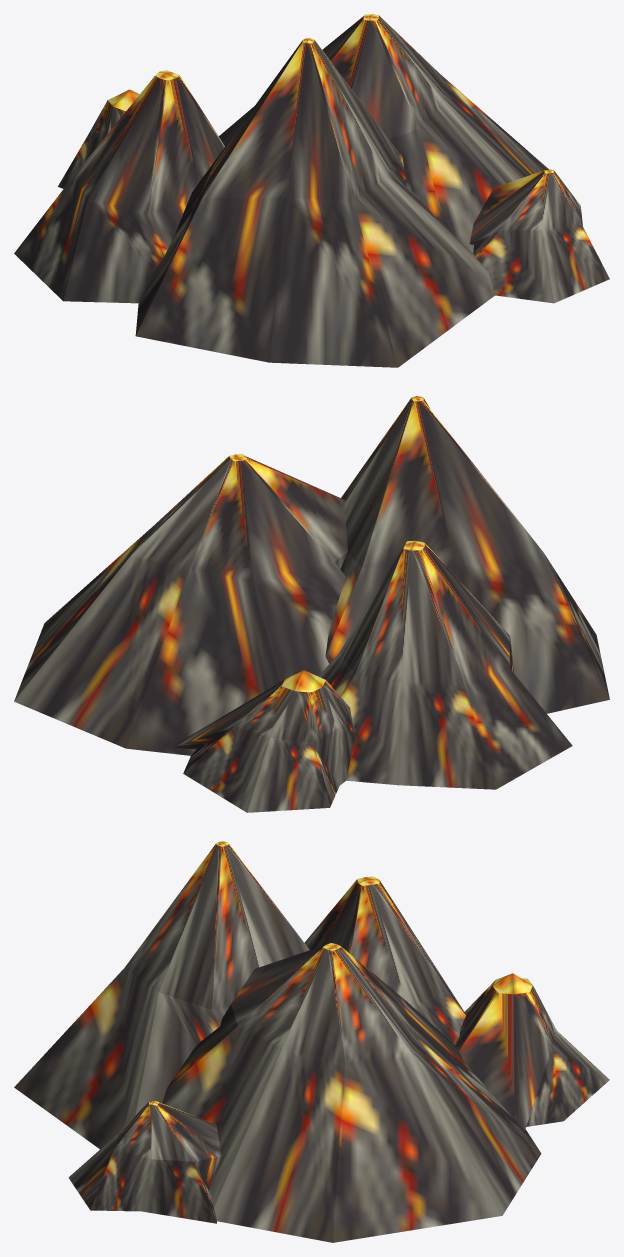
File: Poly_World_Map_Mountain_Lava_06.obj
3 renders of one model, top to bottom at view 1: azimuth 30°, elevation 25°; view 2: azimuth 150°, elevation 25°; view 3: azimuth 270°, elevation 25°, orthographic. The views are drawn at different scales.
Parts seen in each view (by area): view 1: Cube.001_Cube.002, Cube_Cube.001, Cube.002_Cube.003, Cube.003_Cube.004, Cube.004_Cube.005; view 2: Cube.002_Cube.003, Cube_Cube.001, Cube.001_Cube.002, Cube.004_Cube.005; view 3: Cube.002_Cube.003, Cube.001_Cube.002, Cube.004_Cube.005, Cube.003_Cube.004, Cube_Cube.001.
Part boxes in pixels (<box>): Cube.001_Cube.002: <box>135,38,494,367</box>; Cube_Cube.001: <box>14,70,224,303</box>; Cube.002_Cube.003: <box>219,14,549,253</box>; Cube.003_Cube.004: <box>469,169,609,303</box>; Cube.004_Cube.005: <box>58,89,139,188</box>; Cube.002_Cube.003: <box>14,454,347,755</box>; Cube_Cube.001: <box>318,540,572,789</box>; Cube.001_Cube.002: <box>325,396,609,713</box>; Cube.004_Cube.005: <box>174,670,354,812</box>; Cube.002_Cube.003: <box>162,943,541,1242</box>; Cube.001_Cube.002: <box>14,841,309,1149</box>; Cube.004_Cube.005: <box>455,973,609,1130</box>; Cube.003_Cube.004: <box>68,1100,221,1223</box>; Cube_Cube.001: <box>304,876,465,1044</box>.
Bounding box in the file's own units: 1.61 × 0.7742 × 1.65.
Materials: 1 (1 with a texture image).
